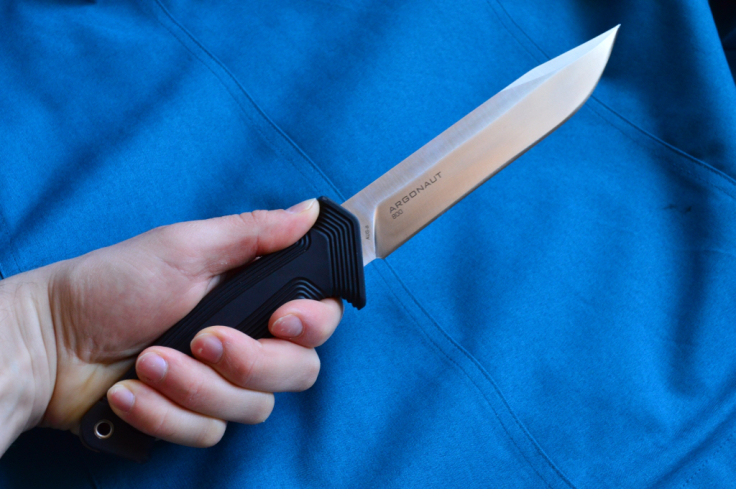knife: (136, 15, 636, 394)
